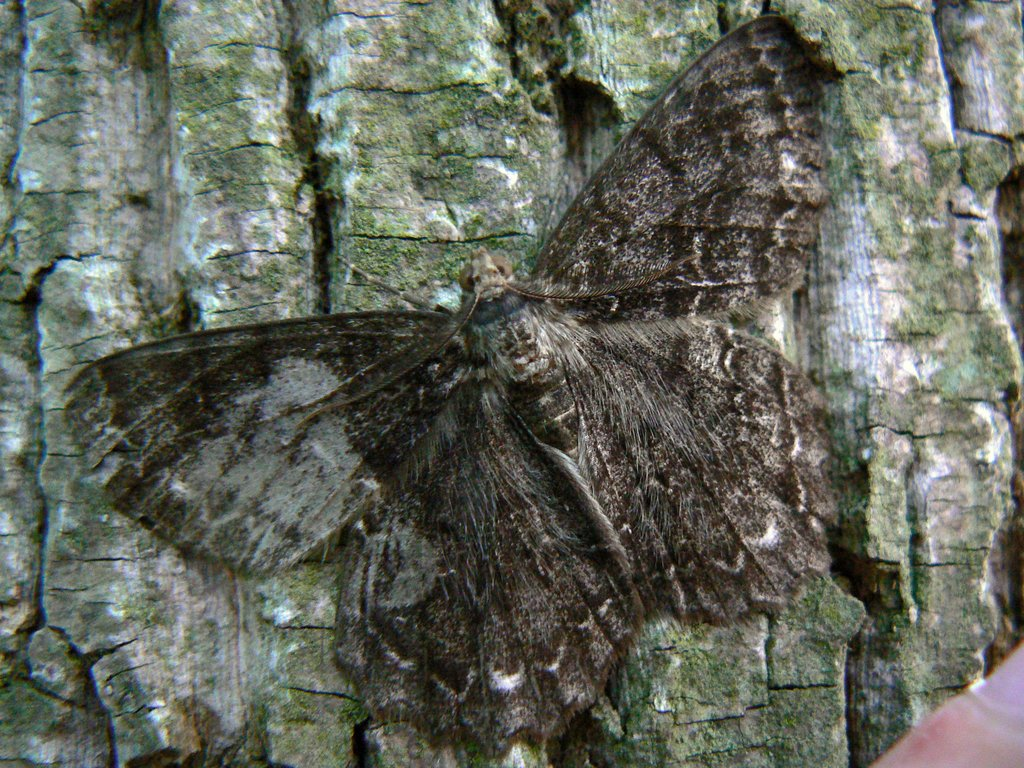Butterfly: (34, 68, 911, 750)
